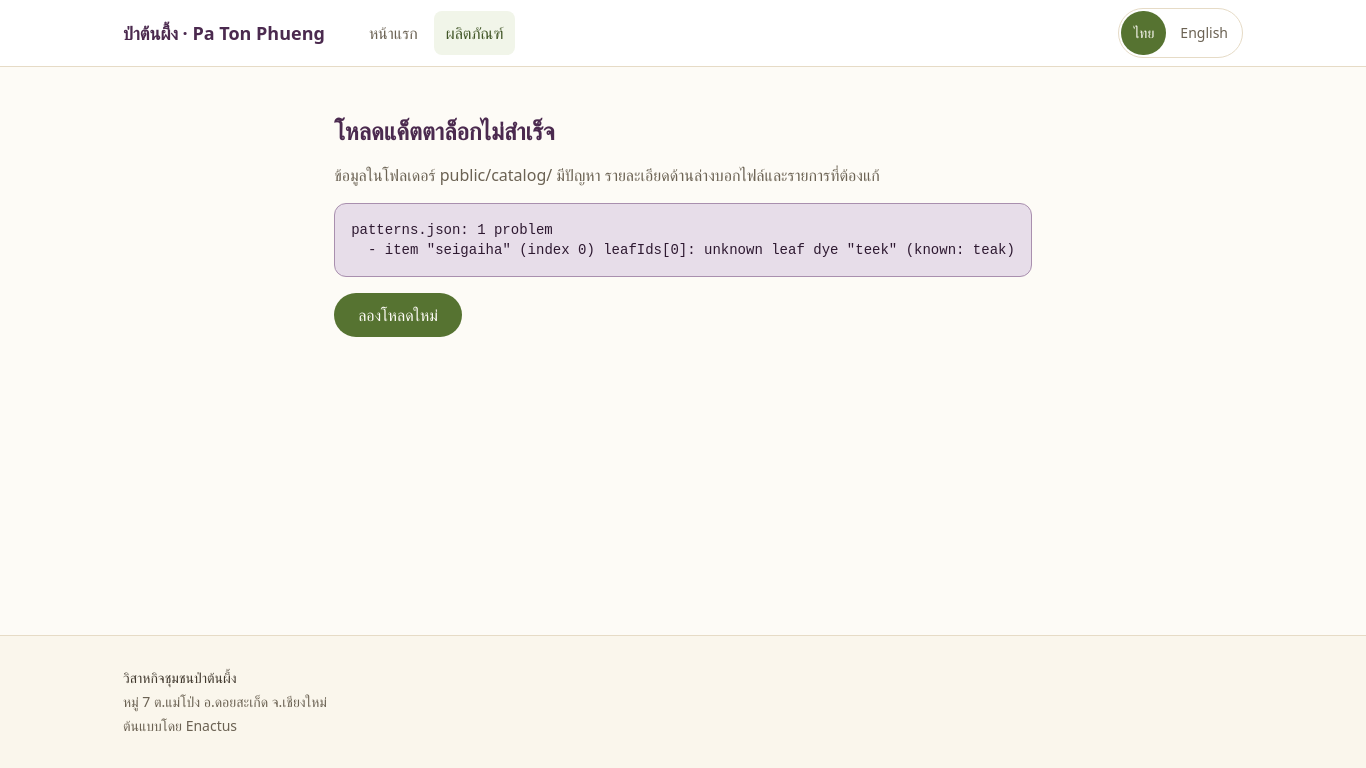
catalog states › reloads the catalog when the error screen offers to retry
Click the button "ลองโหลดใหม่": x=398, y=315 left=334, top=293, right=462, bottom=337
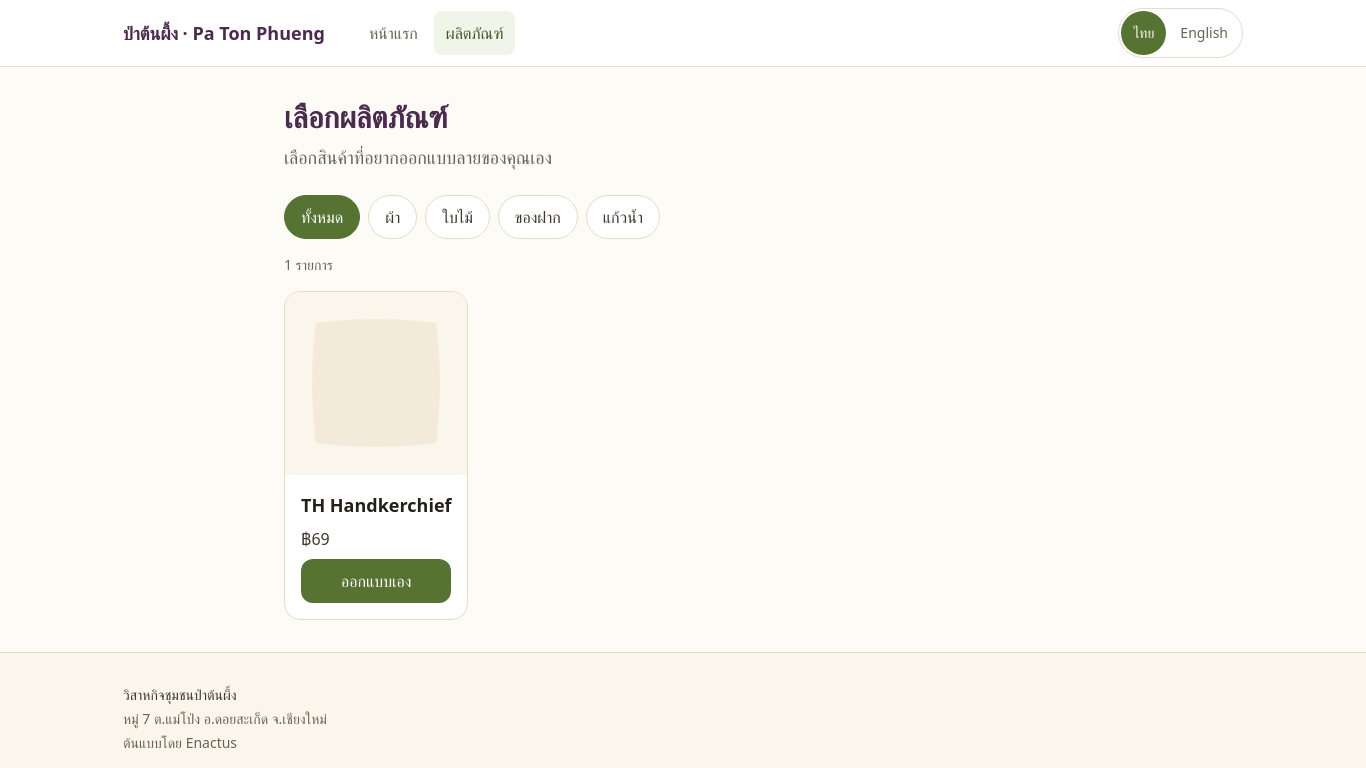
Check: the heading "เลือกผลิตภัณฑ์" is shown, box left=284, top=96, right=448, bottom=137
